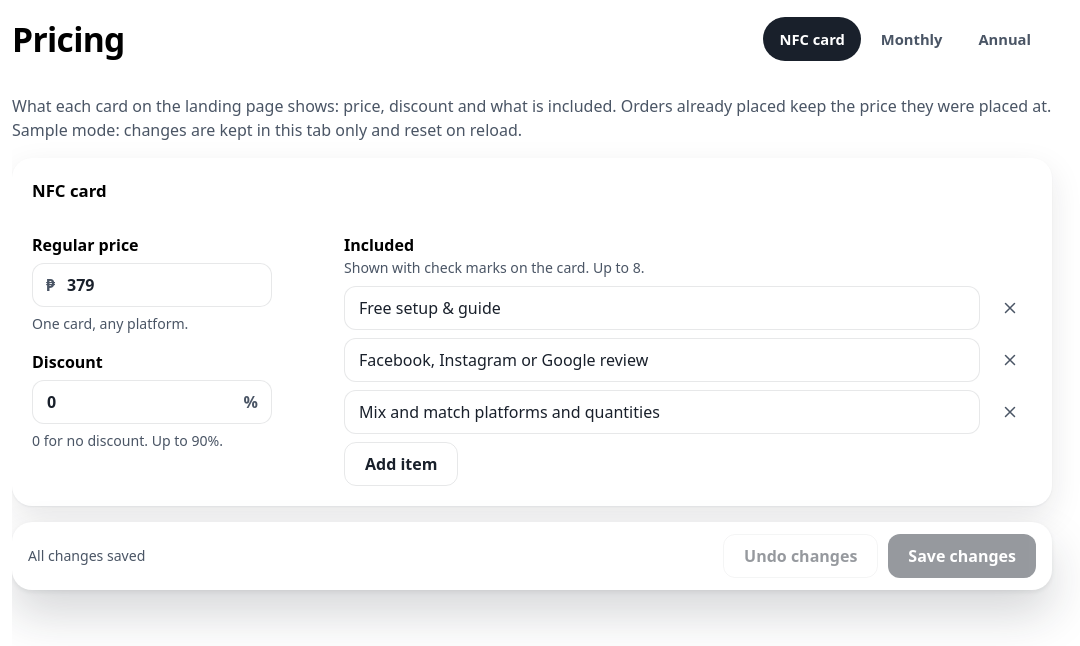
Test: PricingPage › applies a discount and shows what customers pay
Check: the heading "NFC card" is shown, box x1=32 y1=178 x2=107 y2=203
Replace the text in the field labelled "Discount" with "20": (152, 402) x1=32 y1=380 x2=272 y2=424
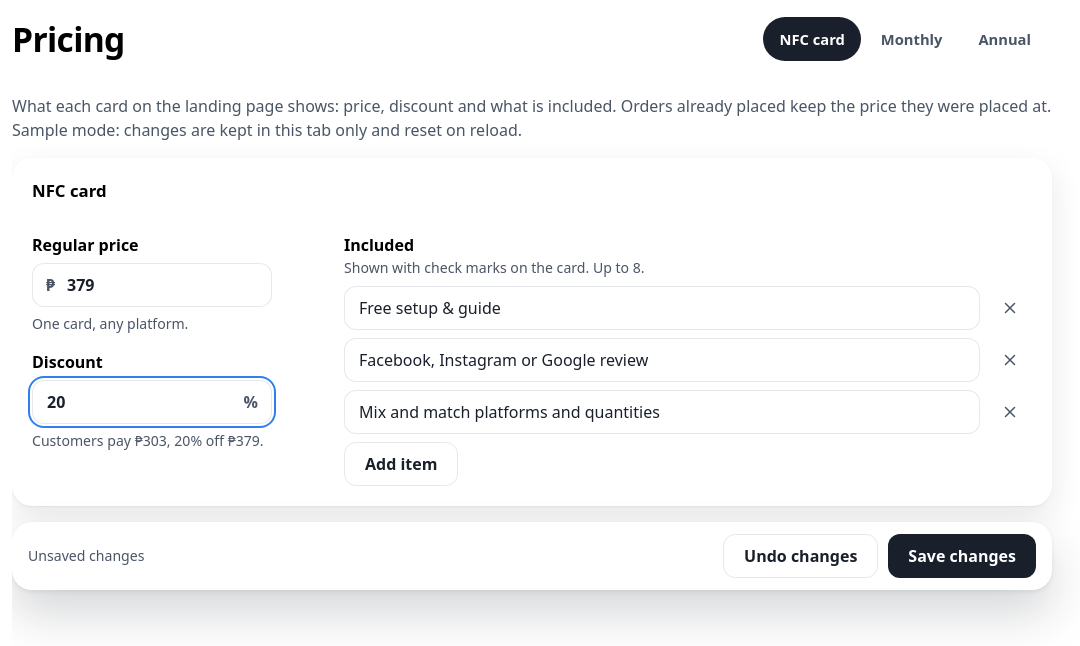
Check: the text "Customers pay ₱303, 20% off ₱379." is shown, box x1=32 y1=431 x2=264 y2=450
Click the button "Save changes": (962, 556) x1=888 y1=534 x2=1036 y2=578
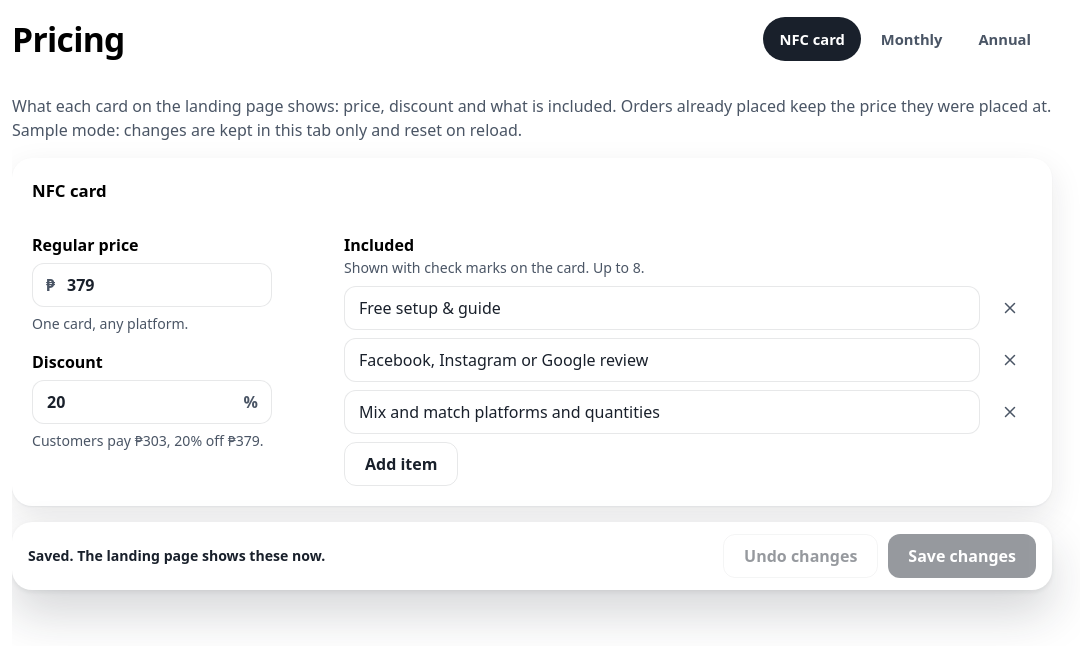
Check: the text "Saved. The landing page shows these now." is shown, box x1=28 y1=545 x2=325 y2=566
